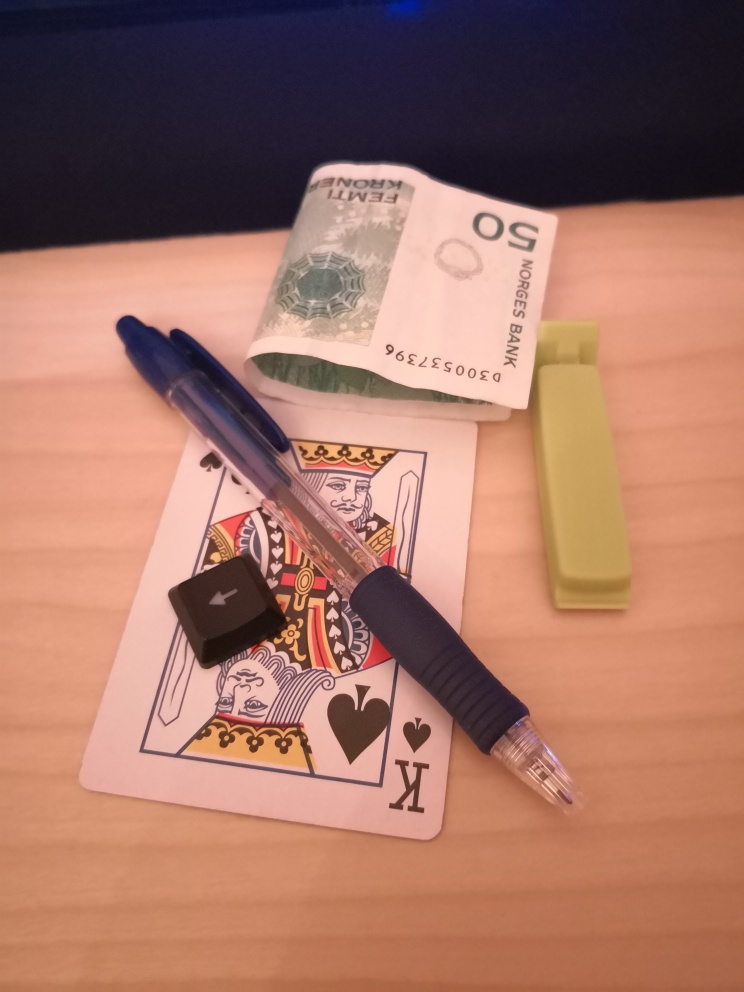king: (77, 397, 477, 843)
